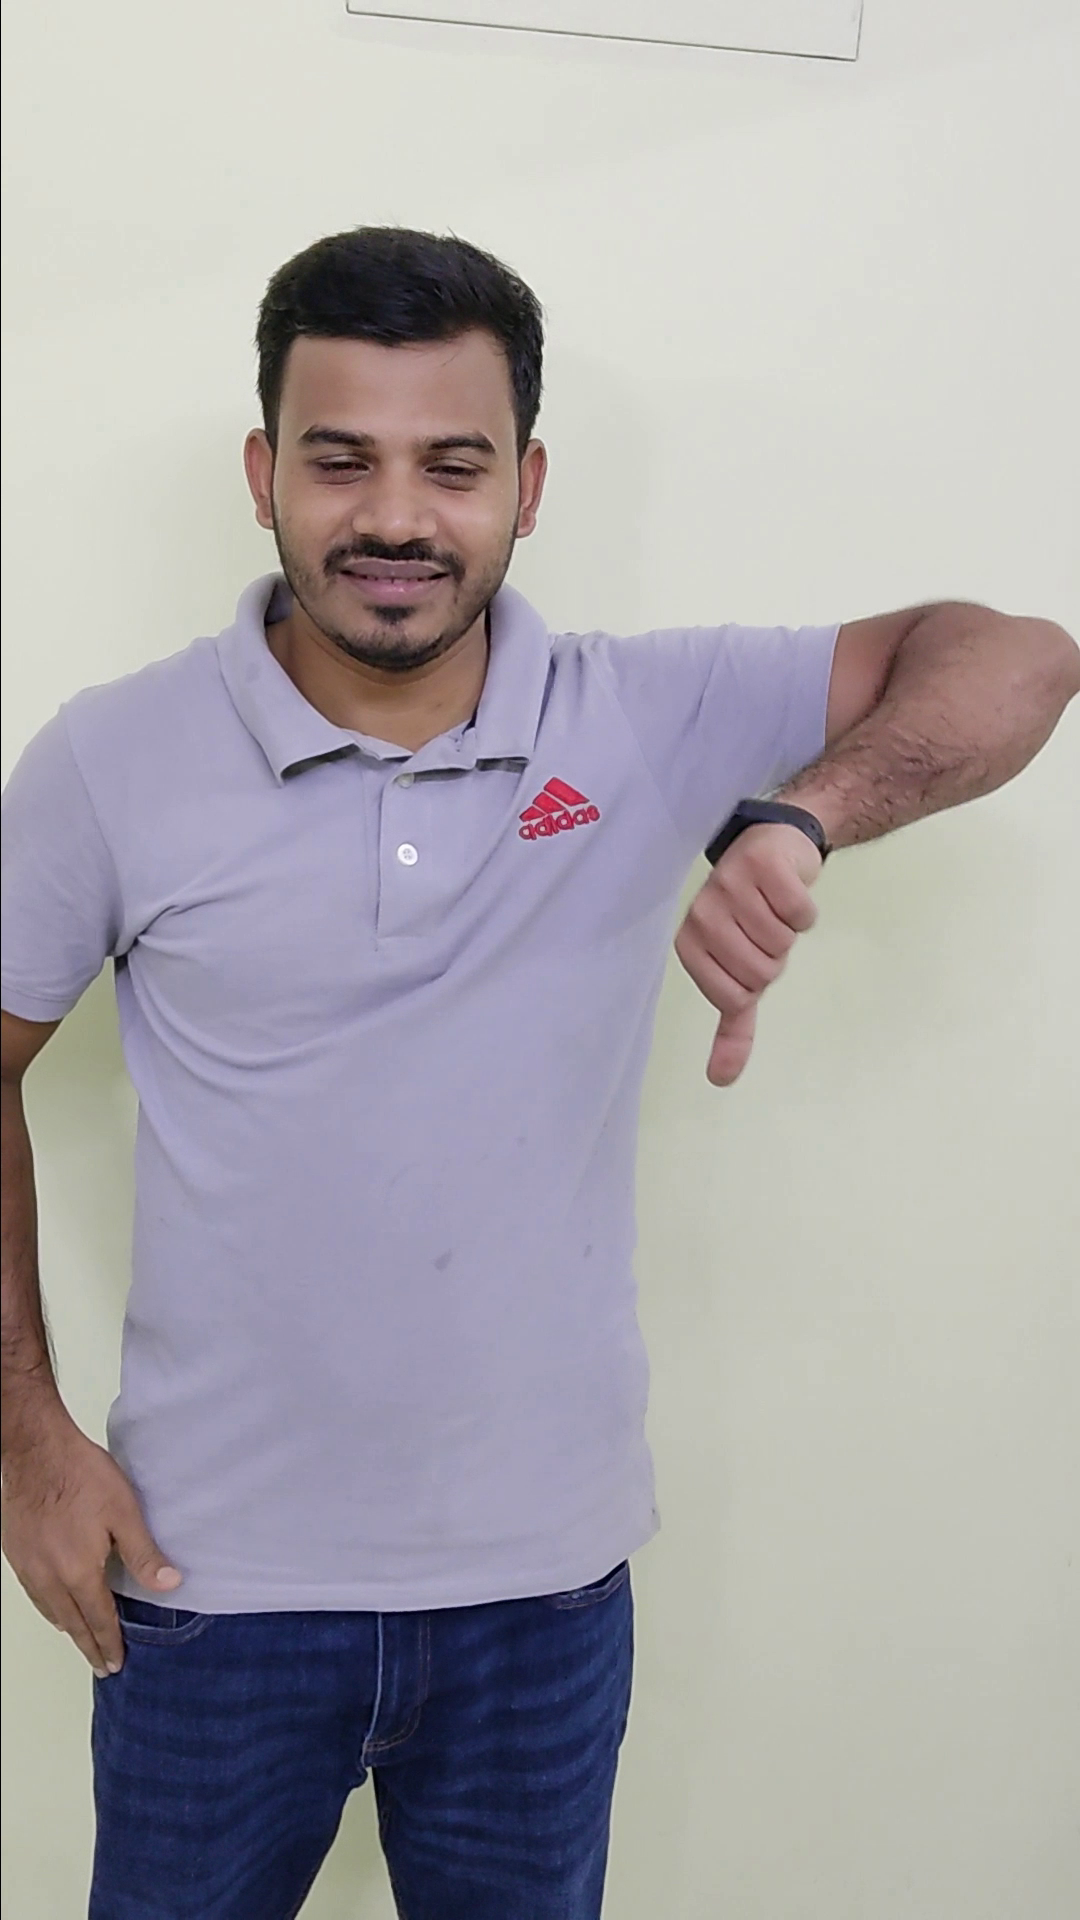Dislike: (617, 778, 869, 1105)
None: (3, 1390, 191, 1680)
